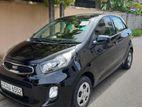car: (1, 14, 133, 106)
